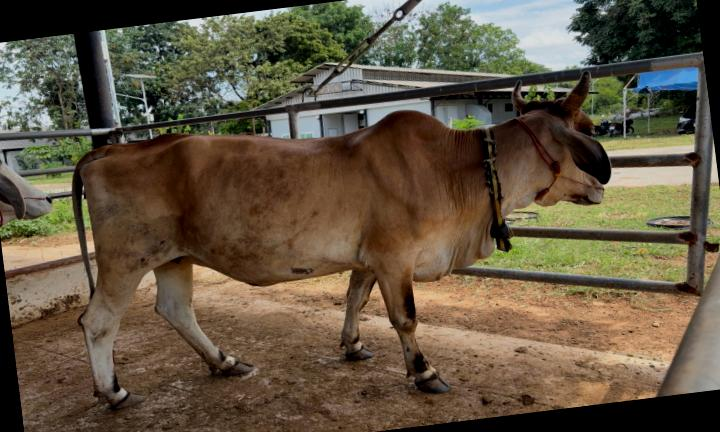Brahman: (73, 71, 610, 408)
